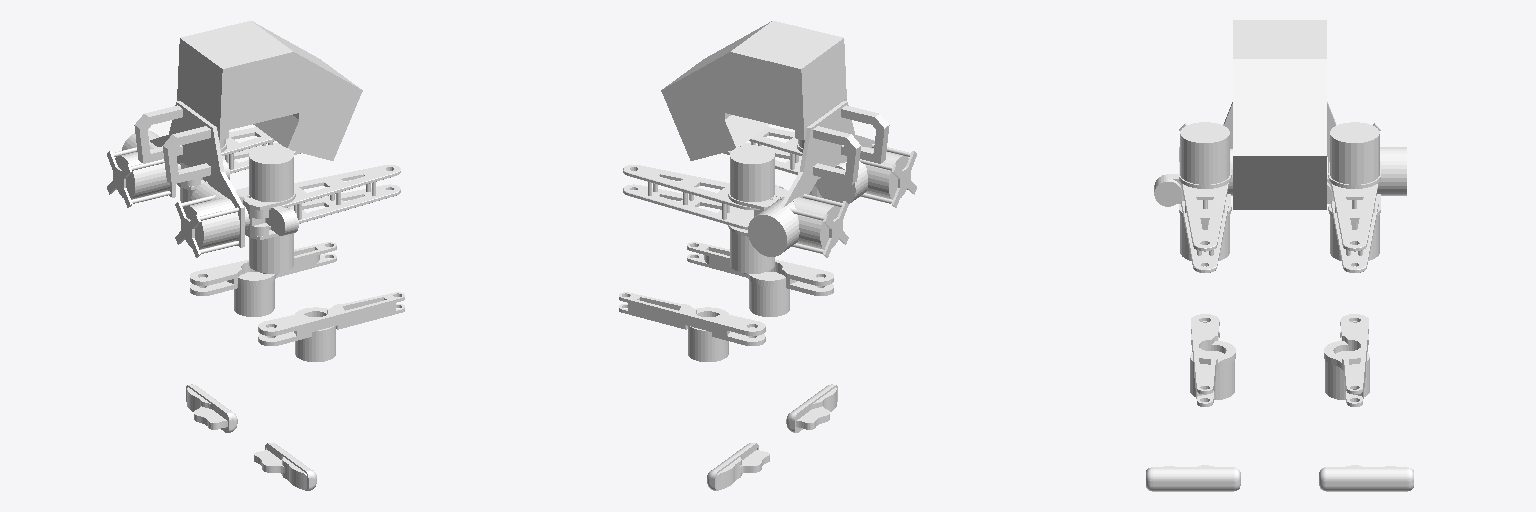
URDF robot description (pai_urdf):
<?xml version="1.0" encoding="utf-8"?>
<!-- This URDF was automatically created by SolidWorks to URDF Exporter! Originally created by
[author] ([email redacted]) 
     Commit Version: 1.6.0-4-g7f85cfe  Build Version: 1.6.7995.38578
     For more information, please see http://wiki.ros.org/sw_urdf_exporter -->
<robot name="pai_urdf">
  <link name="base_link">
    <inertial>
      <origin xyz="0.069429 6.1599E-18 100.093307" rpy="0 0 0" />
      <mass value="1.5" />
      <inertia ixx="0.0028787" ixy="-6.2028E-19" ixz="0.0011496"
        iyy="0.0047606" iyz="5.6278E-19"
        izz="0.0043029" />
    </inertial>
    <visual>
      <origin xyz="0 0 0" rpy="0 0 0" />
      <geometry>
        <mesh filename="package://pai_urdf/meshes/base_link.STL" />
      </geometry>
      <material name="">
        <color rgba="1 1 1 1" />
      </material>
    </visual>
    <collision>
      <origin xyz="0 0 0" rpy="0 0 0" />
      <geometry>
        <mesh filename="package://pai_urdf/meshes/base_link.STL" />
      </geometry>
    </collision>
  </link>
  <link name="left-hip-abad">
    <inertial>
      <origin xyz="0.041409 0 0.055119" rpy="0 0 0" />
      <mass value="0.35" />
      <inertia ixx="3.6841E-05" ixy="-2.584E-22" ixz="-6.2162E-07"
        iyy="3.8839E-05" iyz="-1.9482E-21"
        izz="3.6277E-05" />
    </inertial>
    <visual>
      <origin xyz="0 0 0" rpy="0 0 0" />
      <geometry>
        <mesh filename="package://pai_urdf/meshes/left-hip-abad.STL" />
      </geometry>
      <material name="">
        <color rgba="1 1 1 1" />
      </material>
    </visual>
    <collision>
      <origin xyz="0 0 0" rpy="0 0 0" />
      <geometry>
        <mesh filename="package://pai_urdf/meshes/left-hip-abad.STL" />
      </geometry>
    </collision>
  </link>
  <joint name="L_hip2_joint" type="continuous">
    <origin xyz="0 0.075 0" rpy="0 0 0" />
    <parent link="base_link" />
    <child link="left-hip-abad" />
    <axis xyz="-1 0 0" />
  </joint>
  <link name="left-hip-yaw">
    <inertial>
      <origin xyz="-0.00049584 2.8866E-15 0.0032955" rpy="0 0 0" />
      <mass value="0.65" />
      <inertia ixx="6.7757E-05" ixy="7.9552E-21" ixz="-6.395E-07" iyy="6.8581E-05" iyz="9.1346E-21"
        izz="6.7914E-05" />
    </inertial>
    <visual>
      <origin xyz="0 0 0" rpy="0 0 0" />
      <geometry>
        <mesh filename="package://pai_urdf/meshes/left-hip-yaw.STL" />
      </geometry>
      <material name="">
        <color rgba="1 1 1 1" />
      </material>
    </visual>
    <collision>
      <origin xyz="0 0 0" rpy="0 0 0" />
      <geometry>
        <mesh filename="package://pai_urdf/meshes/left-hip-yaw.STL" />
      </geometry>
    </collision>
  </link>
  <joint name="L_hip_joint" type="continuous">
    <origin xyz="0.049 0 -0.0005" rpy="0 0 0" />
    <parent link="left-hip-abad" />
    <child link="left-hip-yaw" />
    <axis xyz="0 0 1" />
  </joint>
  <link name="left-hip-pitch">
    <inertial>
      <origin xyz="6.5226E-16 2.3315E-15 -0.05727" rpy="0 0 0" />
      <mass value="0.2" />
      <inertia ixx="0.00012318" ixy="3.9623E-20" ixz="-2.6324E-20" iyy="0.00012926" iyz="7.2271E-23"
        izz="6.3186E-06" />
    </inertial>
    <visual>
      <origin xyz="0 0 0" rpy="0 0 0" />
      <geometry>
        <mesh filename="package://pai_urdf/meshes/left-hip-pitch.STL" />
      </geometry>
      <material name="">
        <color rgba="1 1 1 1" />
      </material>
    </visual>
    <collision>
      <origin xyz="0 0 0" rpy="0 0 0" />
      <geometry>
        <mesh filename="package://pai_urdf/meshes/left-hip-pitch.STL" />
      </geometry>
    </collision>
  </link>
  <joint name="L_thigh_joint" type="continuous">
    <origin xyz="0 0 0" rpy="0 0 0" />
    <parent link="left-hip-yaw" />
    <child link="left-hip-pitch" />
    <axis xyz="0 1 0" />
  </joint>
  <link name="left-knee">
    <inertial>
      <origin xyz="-0.0045962 0.012568 -0.063722" rpy="0 0 0" />
      <mass value="0.36" />
      <inertia ixx="0.00011945" ixy="6.4077E-08" ixz="3.3225E-07" iyy="0.00012253" iyz="1.2844E-07"
        izz="2.0036E-05" />
    </inertial>
    <visual>
      <origin xyz="0 0 0" rpy="0 0 0" />
      <geometry>
        <mesh filename="package://pai_urdf/meshes/left-knee.STL" />
      </geometry>
      <material name="">
        <color rgba="1 1 1 1" />
      </material>
    </visual>
    <collision>
      <origin xyz="0 0 0" rpy="0 0 0" />
      <geometry>
        <mesh filename="package://pai_urdf/meshes/left-knee.STL" />
      </geometry>
    </collision>
  </link>
  <joint name="L_calf_joint" type="continuous">
    <origin xyz="0 0 -0.15" rpy="0 0 0" />
    <parent link="left-hip-pitch" />
    <child link="left-knee" />
    <axis xyz="0 1 0" />
  </joint>
  <link name="left-ankle">
    <inertial>
      <origin xyz="0.010818 -1.9984E-08 -0.014672" rpy="0 0 0" />
      <mass value="0.09" />
      <inertia ixx="2.76E-06" ixy="3.1498E-11" ixz="1.0465E-06" iyy="2.7107E-05" iyz="3.7297E-13"
        izz="2.6942E-05" />
    </inertial>
    <visual>
      <origin xyz="0 0 0" rpy="0 0 0" />
      <geometry>
        <mesh filename="package://pai_urdf/meshes/left-ankle.STL" />
      </geometry>
      <material name="">
        <color rgba="1 1 1 1" />
      </material>
    </visual>
    <collision>
      <origin xyz="0 0 0" rpy="0 0 0" />
      <geometry>
        <mesh filename="package://pai_urdf/meshes/left-ankle.STL" />
      </geometry>
    </collision>
  </link>
  <joint name="L_toe_joint" type="continuous">
    <origin xyz="0 0 -0.16" rpy="0 0 0" />
    <parent link="left-knee" />
    <child link="left-ankle" />
    <axis xyz="0 -1 0" />
  </joint>

  <link name="right-hip-abad">
    <inertial>
      <origin xyz="0.041409 -2.7756E-17 0.055119" rpy="0 0 0" />
      <mass value="0.35" />
      <inertia ixx="3.6841E-05" ixy="2.4386E-22" ixz="-6.2162E-07" iyy="3.8839E-05" iyz="-2.348E-21"
        izz="3.6277E-05" />
    </inertial>
    <visual>
      <origin xyz="0 0 0" rpy="0 0 0" />
      <geometry>
        <mesh filename="package://pai_urdf/meshes/right-hip-abad.STL" />
      </geometry>
      <material name="">
        <color rgba="1 1 1 1" />
      </material>
    </visual>
    <collision>
      <origin xyz="0 0 0" rpy="0 0 0" />
      <geometry>
        <mesh filename="package://pai_urdf/meshes/right-hip-abad.STL" />
      </geometry>
    </collision>
  </link>
  <joint name="R_hip2_joint" type="continuous">
    <origin xyz="0 -0.075 0" rpy="0 0 0" />
    <parent link="base_link" />
    <child link="right-hip-abad" />
    <axis xyz="-1 0 0" />
  </joint>
  <link name="right-hip-yaw">
    <inertial>
      <origin xyz="-0.00049584 4.3021E-16 0.0032955" rpy="0 0 0" />
      <mass value="0.65" />
      <inertia ixx="6.7757E-05" ixy="-1.4631E-21" ixz="-6.395E-07" iyy="6.8581E-05" iyz="1.1283E-20"
        izz="6.7914E-05" />
    </inertial>
    <visual>
      <origin xyz="0 0 0" rpy="0 0 0" />
      <geometry>
        <mesh filename="package://pai_urdf/meshes/right-hip-yaw.STL" />
      </geometry>
      <material name="">
        <color rgba="1 1 1 1" />
      </material>
    </visual>
    <collision>
      <origin xyz="0 0 0" rpy="0 0 0" />
      <geometry>
        <mesh filename="package://pai_urdf/meshes/right-hip-yaw.STL" />
      </geometry>
    </collision>
  </link>
  <joint name="R_hip_joint" type="continuous">
    <origin xyz="0.049 0 -0.0005" rpy="0 0 0" />
    <parent link="right-hip-abad" />
    <child link="right-hip-yaw" />
    <axis xyz="0 0 1" />
  </joint>
  <link name="right-hip-pitch">
    <inertial>
      <origin xyz="-3.5388E-16 6.5226E-16 -0.05727" rpy="0 0 0" />
      <mass value="0.2" />
      <inertia ixx="0.00012318" ixy="3.9681E-20" ixz="-3.2905E-21" iyy="0.00012926" iyz="2.887E-20"
        izz="6.3186E-06" />
    </inertial>
    <visual>
      <origin xyz="0 0 0" rpy="0 0 0" />
      <geometry>
        <mesh filename="package://pai_urdf/meshes/right-hip-pitch.STL" />
      </geometry>
      <material name="">
        <color rgba="1 1 1 1" />
      </material>
    </visual>
    <collision>
      <origin xyz="0 0 0" rpy="0 0 0" />
      <geometry>
        <mesh filename="package://pai_urdf/meshes/right-hip-pitch.STL" />
      </geometry>
    </collision>
  </link>
  <joint name="R_thigh_joint" type="continuous">
    <origin xyz="0 0 0" rpy="0 0 0" />
    <parent link="right-hip-yaw" />
    <child link="right-hip-pitch" />
    <axis xyz="0 -1 0" />
  </joint>
  <link name="right-knee">
    <inertial>
      <origin xyz="-0.0045962 -0.012568 -0.063722" rpy="0 0 0" />
      <mass value="0.36" />
      <inertia ixx="0.00011945" ixy="-6.4077E-08" ixz="3.3225E-07" iyy="0.00012253"
        iyz="-1.2844E-07" izz="2.0036E-05" />
    </inertial>
    <visual>
      <origin xyz="0 0 0" rpy="0 0 0" />
      <geometry>
        <mesh filename="package://pai_urdf/meshes/right-knee.STL" />
      </geometry>
      <material name="">
        <color rgba="1 1 1 1" />
      </material>
    </visual>
    <collision>
      <origin xyz="0 0 0" rpy="0 0 0" />
      <geometry>
        <mesh filename="package://pai_urdf/meshes/right-knee.STL" />
      </geometry>
    </collision>
  </link>
  <joint name="R_calf_joint" type="continuous">
    <origin xyz="0 0 -0.15" rpy="0 0 0" />
    <parent link="right-hip-pitch" />
    <child link="right-knee" />
    <axis xyz="0 1 0" />
  </joint>
  <link name="right-ankle">
    <inertial>
      <origin xyz="0.010818 -1.9984E-08 -0.014672" rpy="0 0 0" />
      <mass value="0.09" />
      <inertia ixx="2.76E-06" ixy="3.1498E-11" ixz="1.0465E-06" iyy="2.7107E-05" iyz="3.7297E-13"
        izz="2.6942E-05" />
    </inertial>
    <visual>
      <origin xyz="0 0 0" rpy="0 0 0" />
      <geometry>
        <mesh filename="package://pai_urdf/meshes/right-ankle.STL" />
      </geometry>
      <material name="">
        <color rgba="1 1 1 1" />
      </material>
    </visual>
    <collision>
      <origin xyz="0 0 0" rpy="0 0 0" />
      <geometry>
        <mesh filename="package://pai_urdf/meshes/right-ankle.STL" />
      </geometry>
    </collision>
  </link>
  <joint name="R_toe_joint" type="continuous">
    <origin xyz="0 0 -0.16" rpy="0 0 0" />
    <parent link="right-knee" />
    <child link="right-ankle" />
    <axis xyz="0 1 0" />
  </joint>


  <joint name="imu_joint" type="fixed">
    <parent link="base_link" />
    <child link="imu_link" />
    <origin rpy="0 0 0" xyz="0 0 0" />
  </joint>

  <link name="imu_link">
    <inertial>
      <mass value="0.001" />
      <origin rpy="0 0 0" xyz="0 0 0" />
      <inertia ixx="0.0001" ixy="0" ixz="0" iyy="0.0001" iyz="0" izz="0.0001" />
    </inertial>
    <visual>
      <origin rpy="0 0 0" xyz="0 0 0" />
      <geometry>
        <box size="0.001 0.001 0.001" />
      </geometry>
      <material name="red" />
    </visual>
    <collision>
      <origin rpy="0 0 0" xyz="0 0 0" />
      <geometry>
        <box size=".001 .001 .001" />
      </geometry>
    </collision>
  </link>
</robot>

--- Facts derived from the render (not from the file) ---
The picture shows the robot from 3 angles, left to right: view 1: azimuth 30°, elevation 25°; view 2: azimuth 150°, elevation 25°; view 3: azimuth 270°, elevation 25°; orthographic projection.
Robot: pai_urdf — 12 links, 11 joints (10 continuous, 1 fixed); root link base_link; default pose: all joints at 0.
Links seen in each view (by area): view 1: base_link, right-hip-pitch, right-knee, left-knee, right-hip-yaw, right-ankle, left-ankle, left-hip-pitch, right-hip-abad; view 2: base_link, left-hip-pitch, left-knee, right-knee, left-hip-abad, left-hip-yaw, left-ankle, right-ankle, right-hip-pitch, right-hip-abad; view 3: base_link, left-hip-pitch, right-hip-pitch, left-knee, right-knee, right-hip-yaw, left-ankle, right-ankle, left-hip-abad, left-hip-yaw, right-hip-abad.
Boxes of the visible links, x1,y1,x2,y2 form: base_link: [107, 21, 362, 257]; right-hip-pitch: [249, 165, 400, 273]; right-knee: [258, 292, 404, 361]; left-knee: [190, 242, 336, 316]; right-hip-yaw: [236, 145, 295, 240]; right-ankle: [254, 443, 316, 490]; left-ankle: [186, 384, 237, 432]; left-hip-pitch: [201, 127, 300, 179]; right-hip-abad: [190, 181, 298, 235]; base_link: [661, 21, 916, 257]; left-hip-pitch: [623, 145, 774, 229]; left-knee: [619, 292, 765, 361]; right-knee: [687, 242, 833, 316]; left-hip-abad: [748, 185, 799, 256]; left-hip-yaw: [728, 187, 787, 273]; left-ankle: [707, 443, 769, 490]; right-ankle: [786, 384, 837, 432]; right-hip-pitch: [723, 127, 840, 208]; right-hip-abad: [816, 161, 867, 203]; base_link: [1179, 20, 1380, 209]; left-hip-pitch: [1330, 122, 1379, 272]; right-hip-pitch: [1180, 183, 1229, 272]; left-knee: [1324, 314, 1369, 406]; right-knee: [1190, 314, 1235, 406]; right-hip-yaw: [1179, 122, 1231, 216]; left-ankle: [1319, 465, 1413, 491]; right-ankle: [1146, 465, 1240, 491]; left-hip-abad: [1327, 147, 1406, 203]; left-hip-yaw: [1328, 162, 1380, 260]; right-hip-abad: [1154, 149, 1232, 206].
Bounding box of the posed robot: 0.2773 × 0.2694 × 0.491 m (x, y, z).
Meshes: 11 distinct files referenced, 11 mesh visuals loaded (11 binary STL).